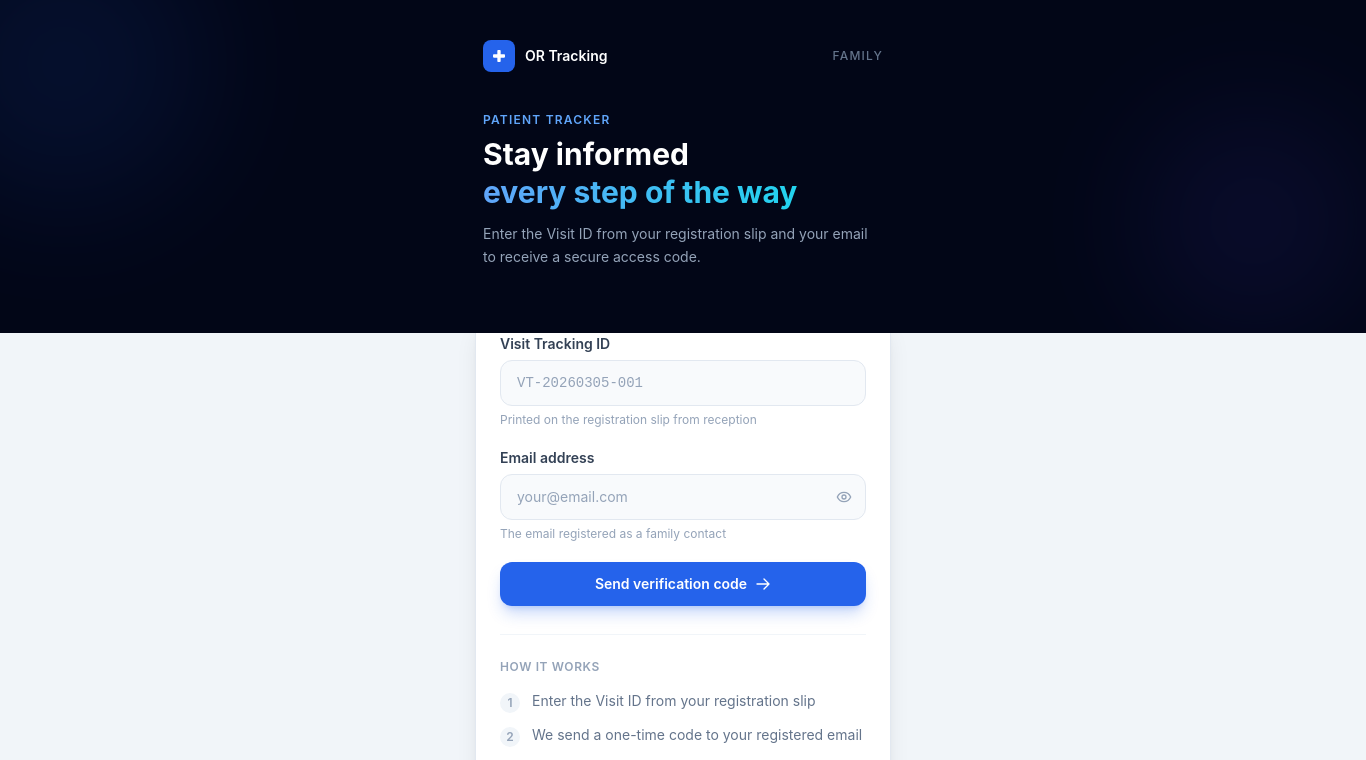
Test case: FamilyPortal › shows error when visit not found
The image size is (1366, 760).
Type "VT-INVALID" into the field with placeholder "VT-20260305-001" at [683, 382], box x1=500 y1=360 x2=866 y2=406
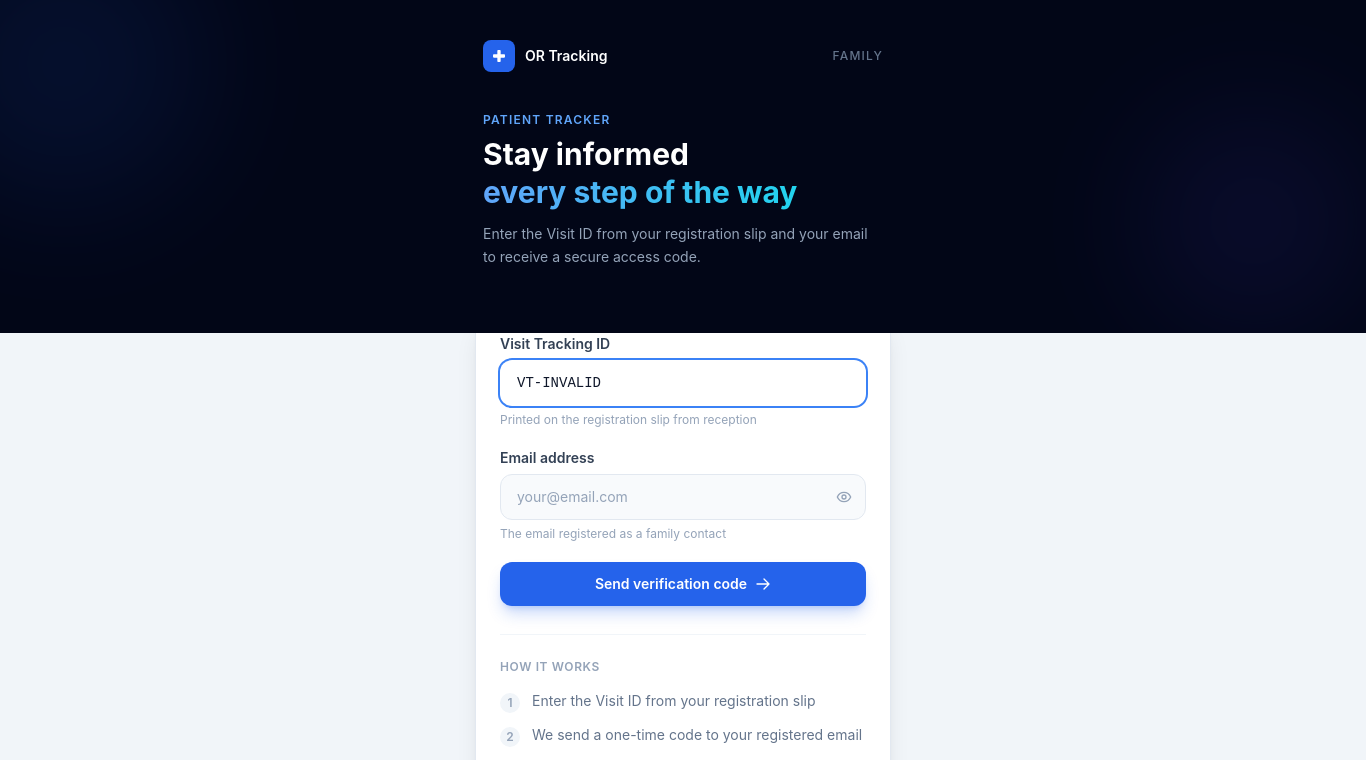
Click the button "Send verification code" at [683, 584], box x1=500 y1=562 x2=866 y2=606
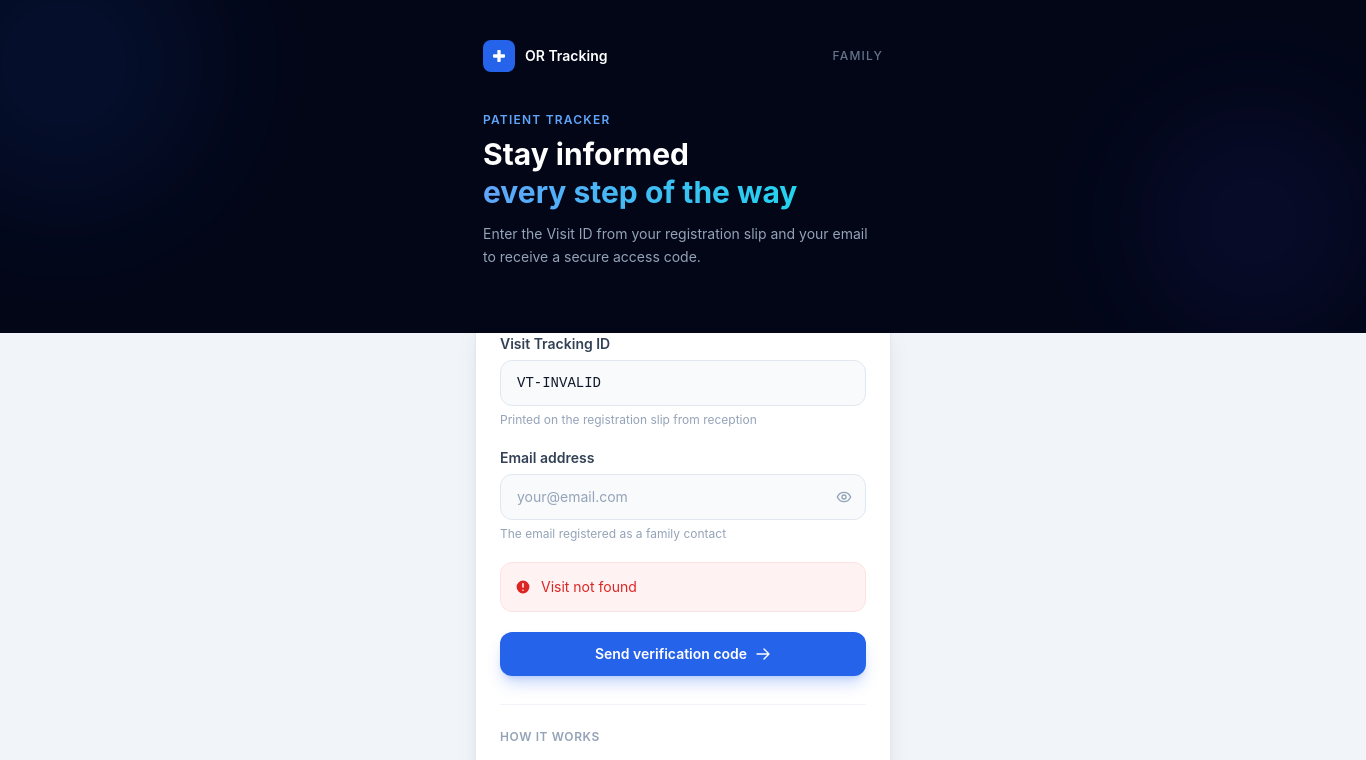
Expected: the text "Visit not found" is shown, x1=500 y1=562 x2=866 y2=612
